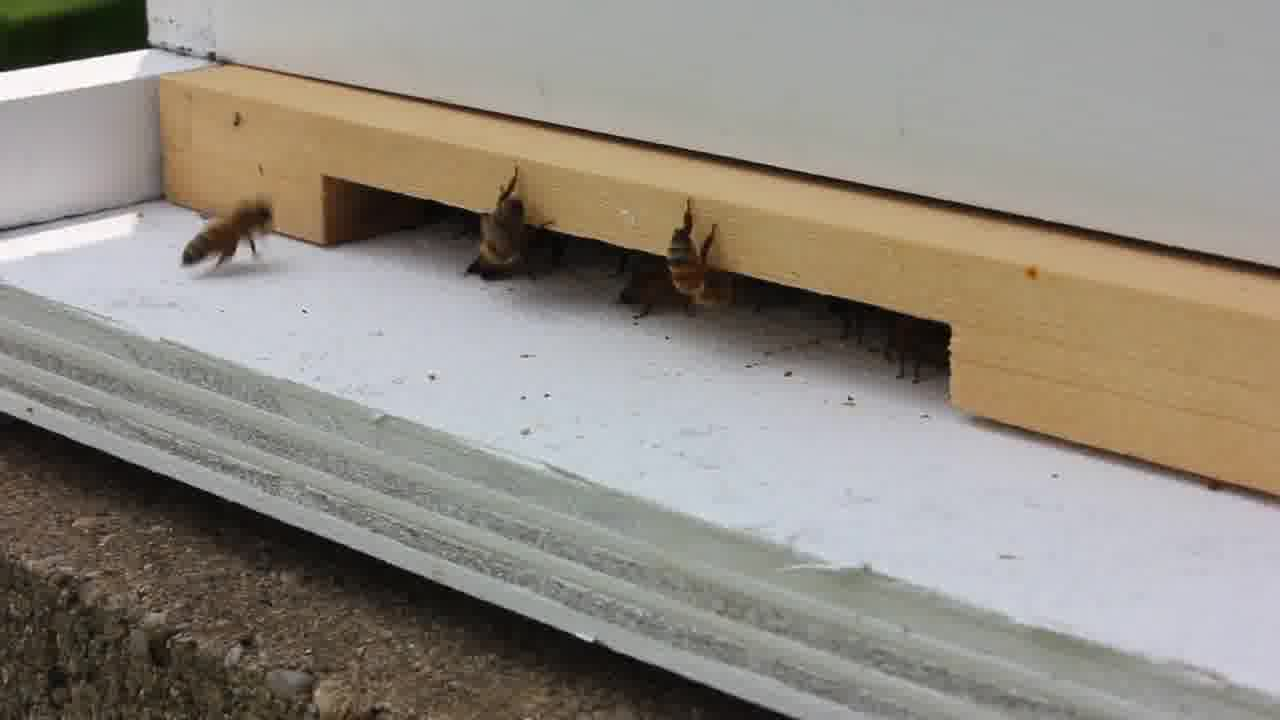pollen: (175, 195, 285, 276)
